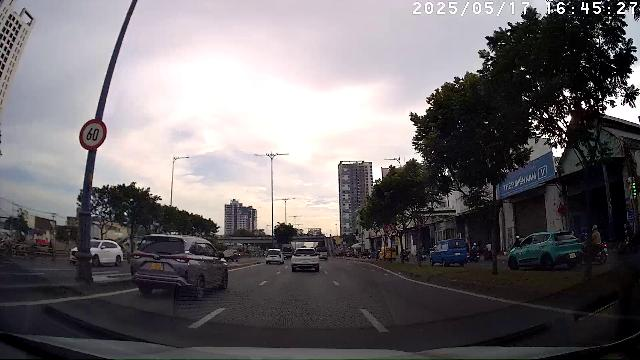127-toc-do-toi-da-60: (78, 119, 108, 151)
